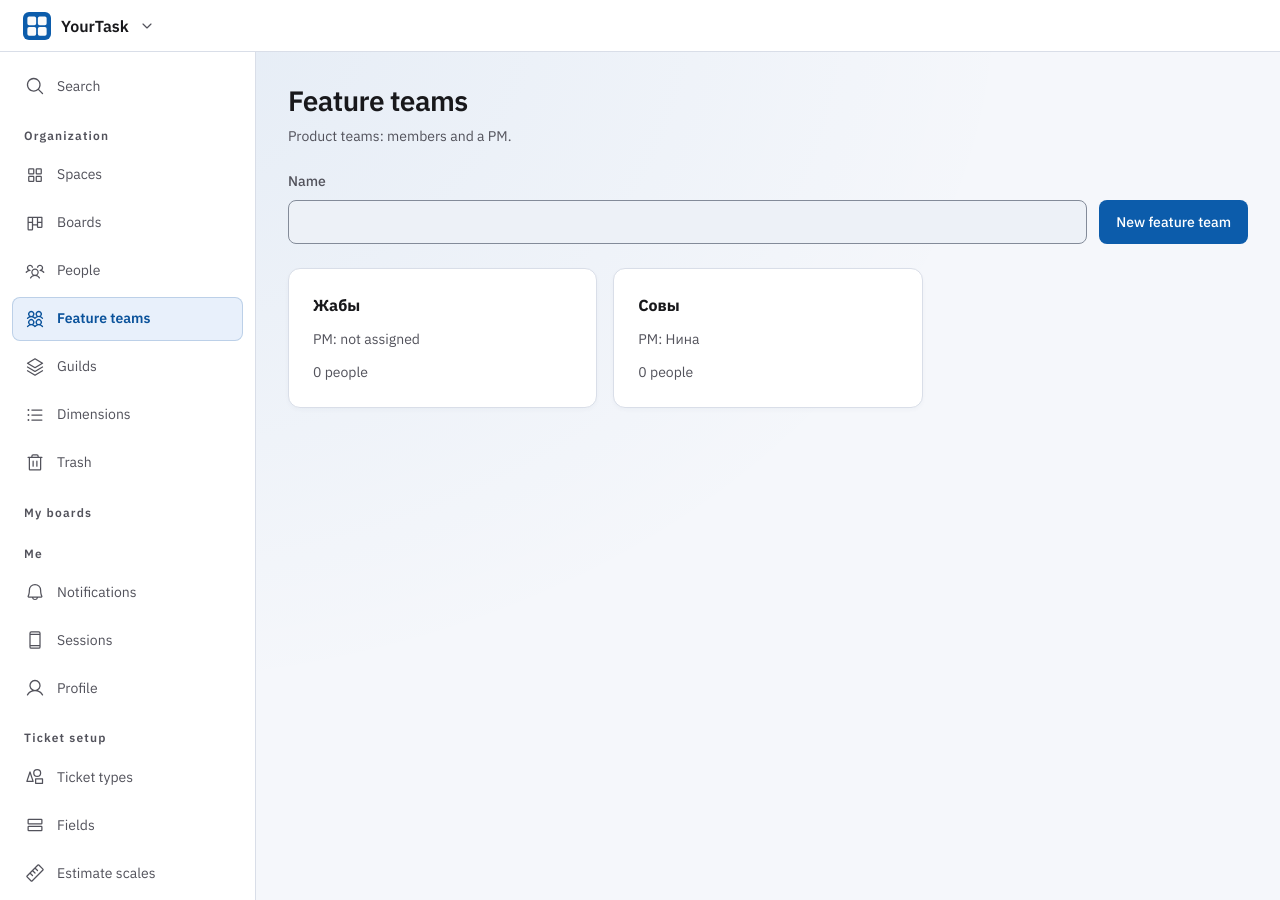
Test case: directory › API errors on save are shown by code
Type "Жабы" into the field labelled "Name" at (688, 222), box [288,200,1087,244]
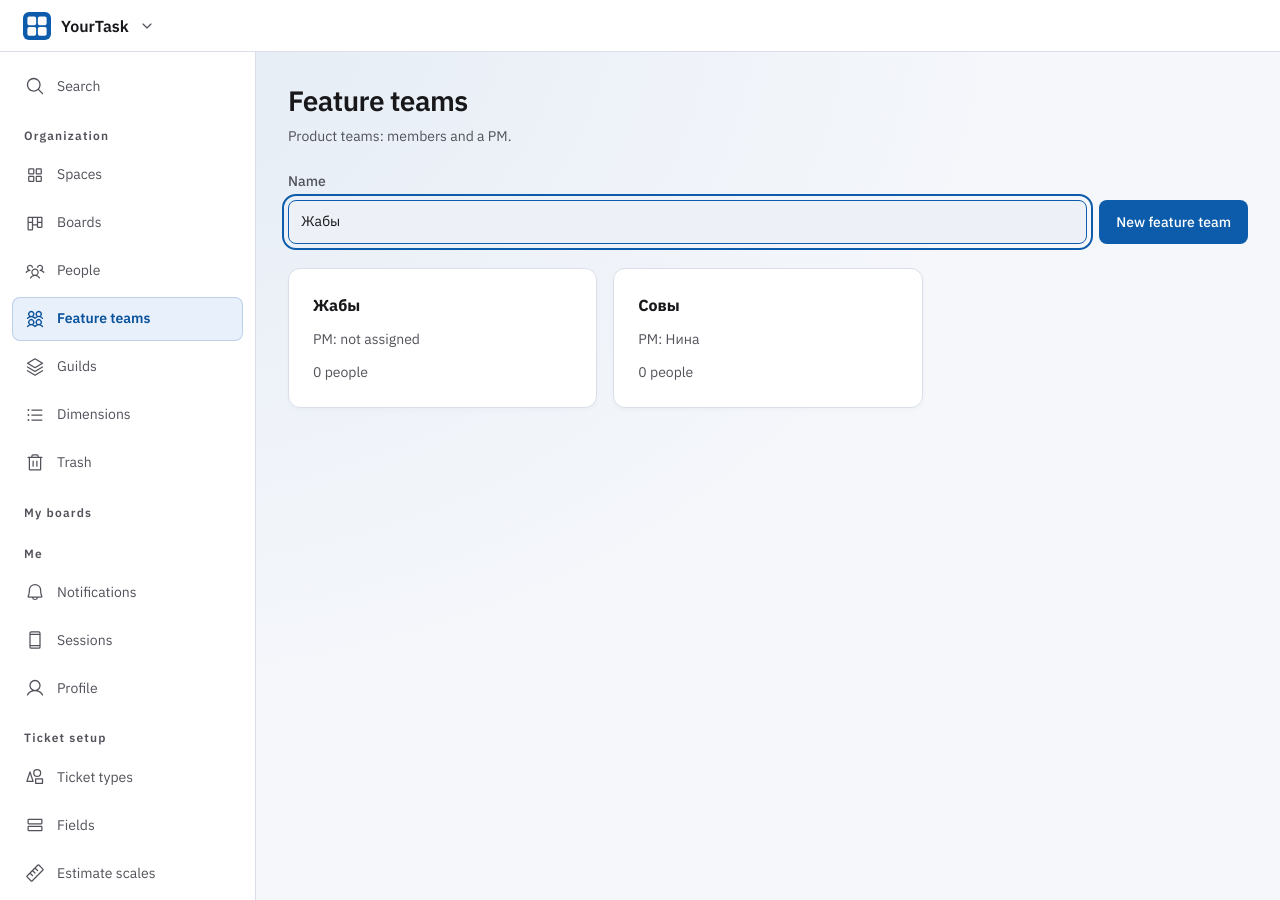
Click the button "New feature team" at (1174, 222), box [1099,200,1248,244]
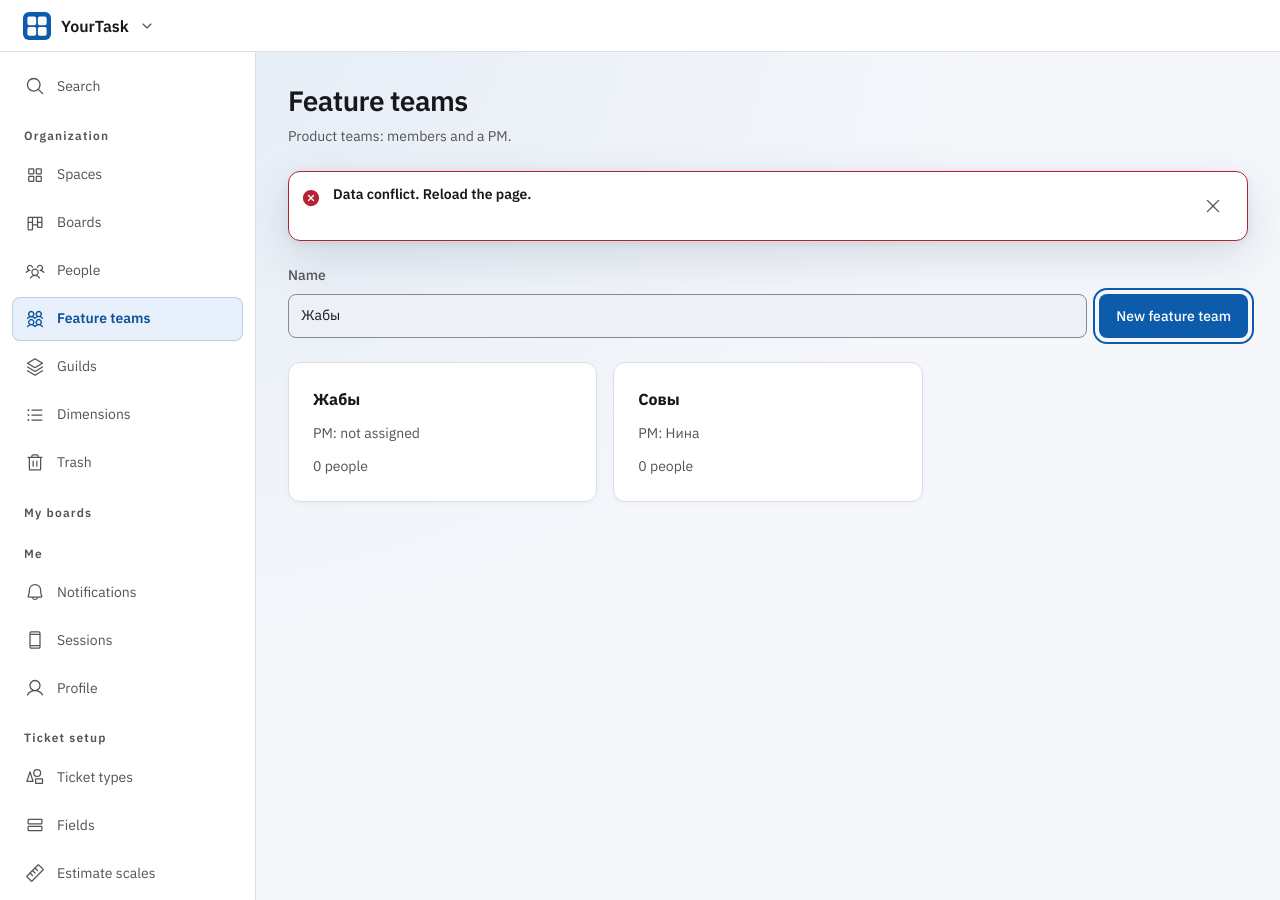
Check: the text "Data conflict. Reload the page." is shown, box [333,185,531,203]
